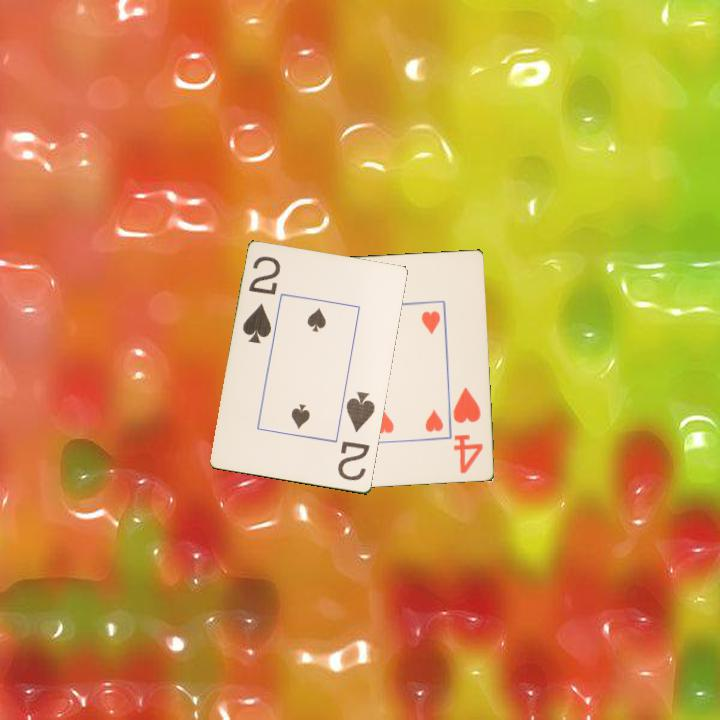2s: (239, 253, 284, 347), (334, 388, 378, 484)
4h: (450, 383, 486, 476)
